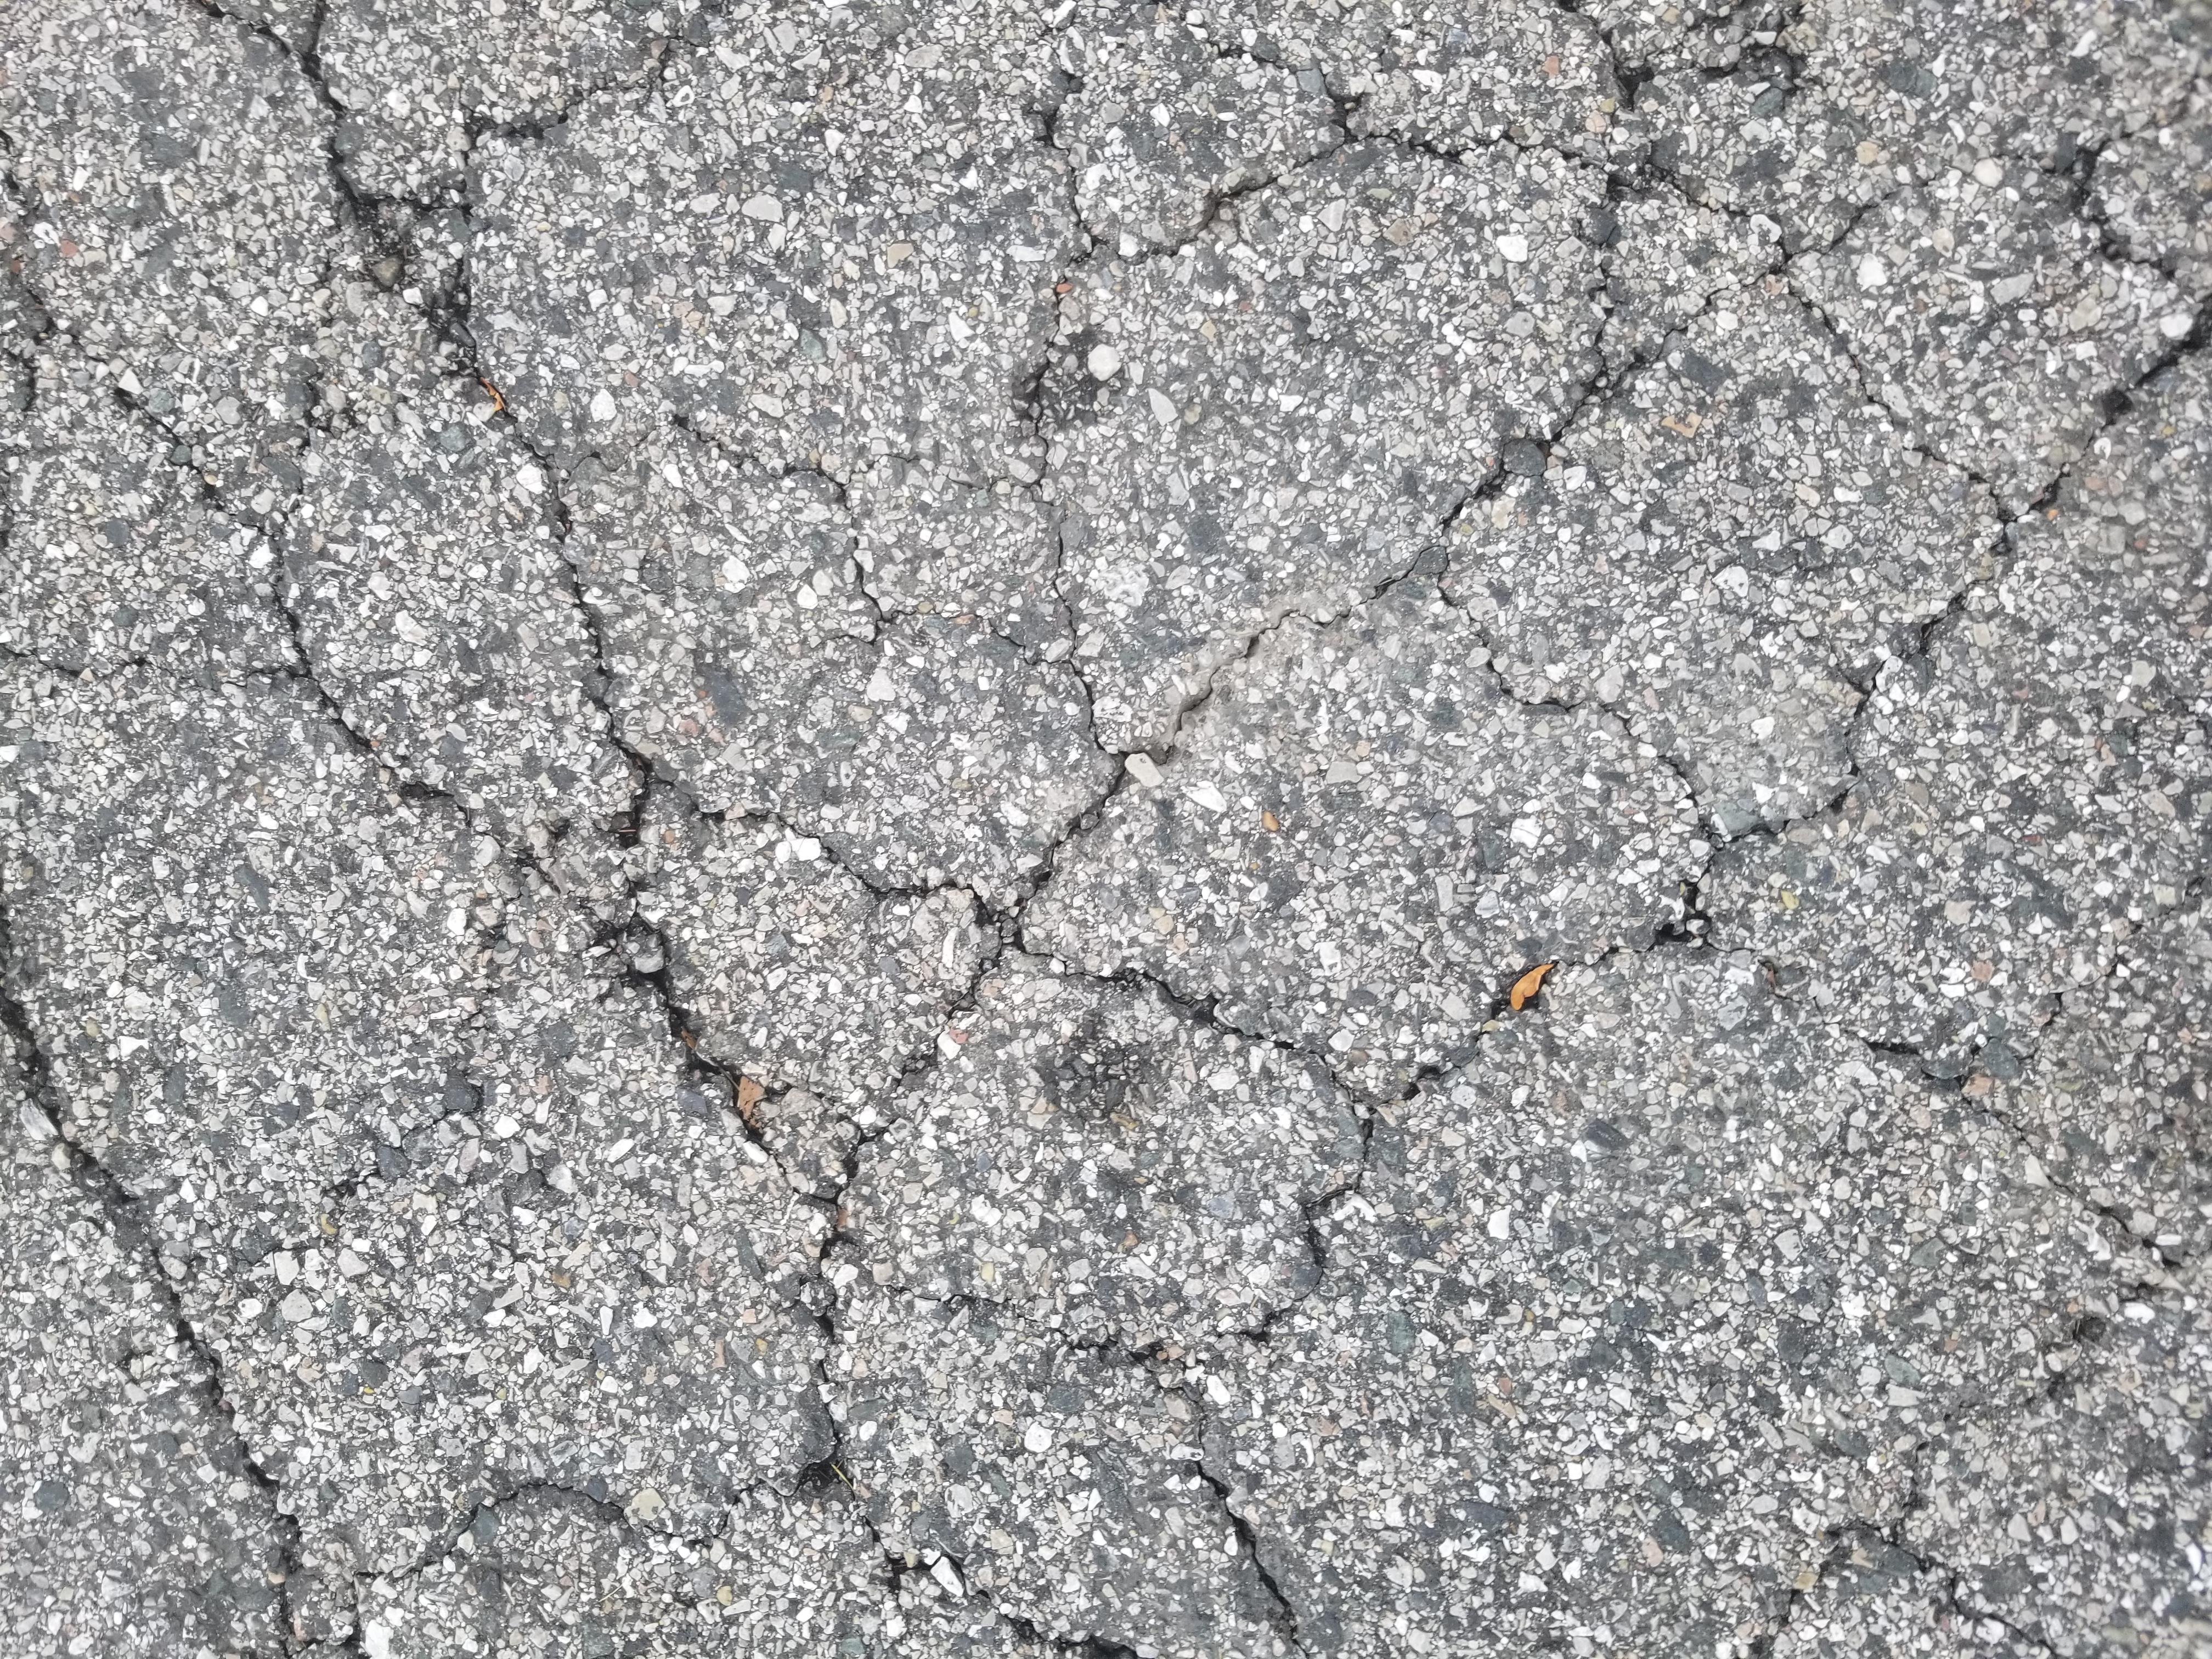alligator-crack: (16, 9, 2212, 1659)
